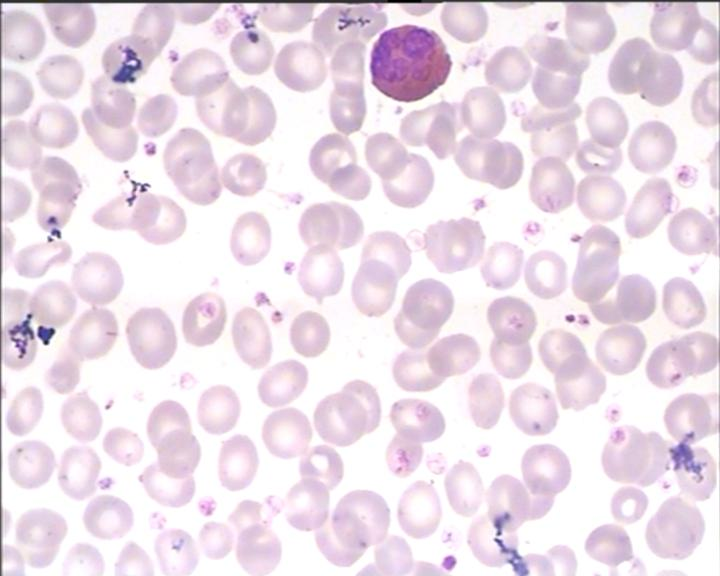eosi: (367, 19, 455, 104)
